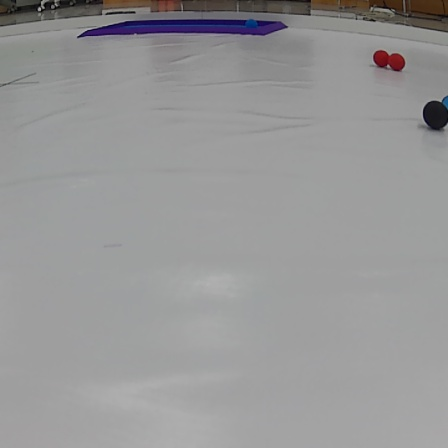black: (416, 99, 448, 132)
blue: (242, 16, 261, 30), (439, 92, 448, 120)
blue_aim: (78, 17, 295, 44)
red: (387, 52, 407, 74), (371, 50, 390, 68)
